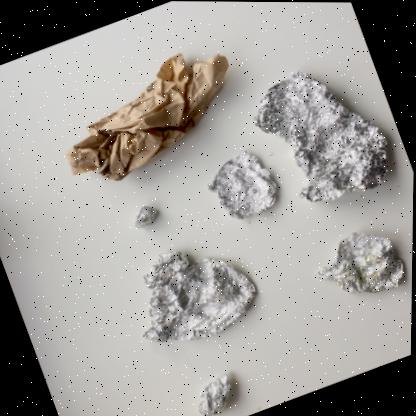Metal: (254, 70, 388, 201), (142, 250, 256, 341), (315, 231, 403, 293), (207, 149, 277, 218), (199, 372, 232, 416), (135, 205, 157, 228)
Paper: (66, 52, 229, 181)
